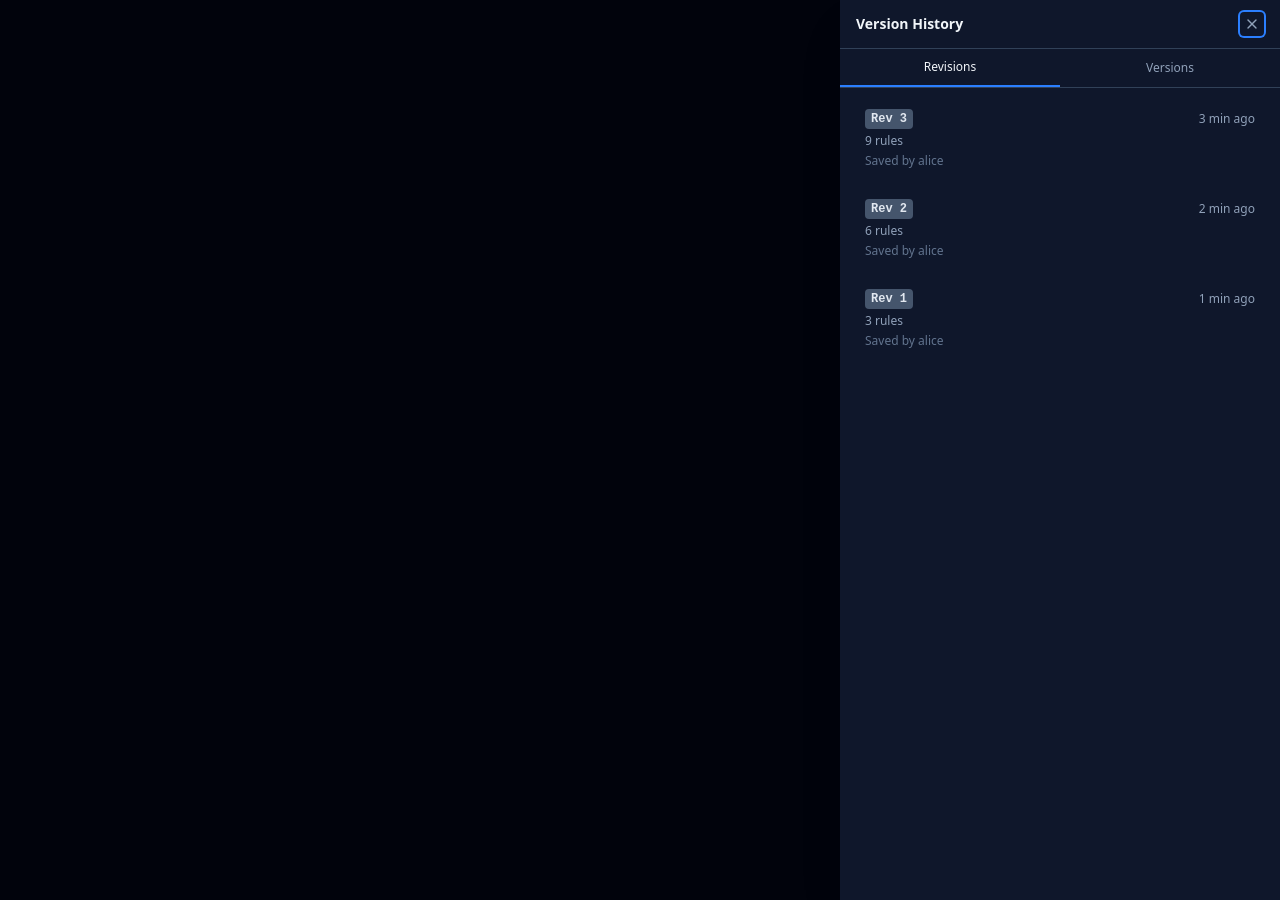
Test: VersionHistoryDrawer — two-tab mode (T-07) › shows Versions empty state when mappingVersions list is empty
The width and height of the screenshot is (1280, 900).
Click the tab with test id "tab-versions": {"x": 1170, "y": 68} [1060,49,1279,87]
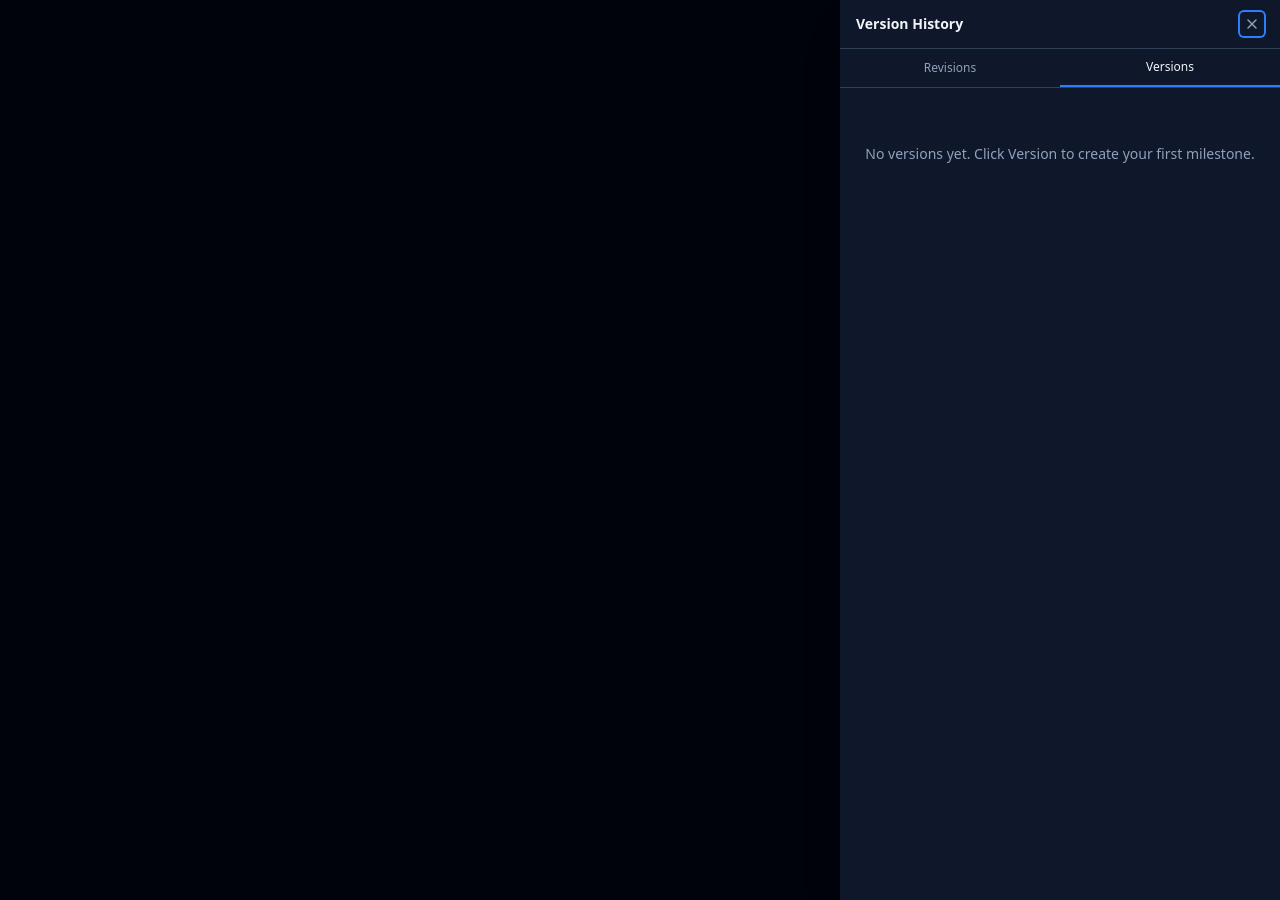
Check: the element with test id "versions-empty-state" is shown, box [865,144,1255,163]
